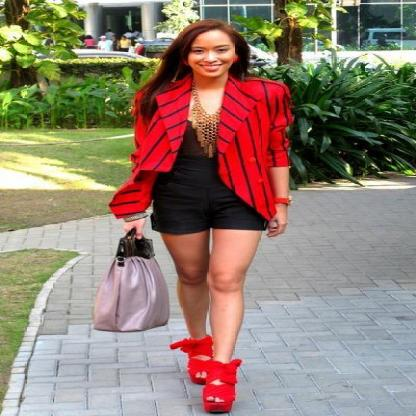bag: (77, 228, 179, 332)
dress: (150, 126, 269, 238)
jacket: (108, 75, 294, 220)
shoe: (171, 336, 236, 406)
